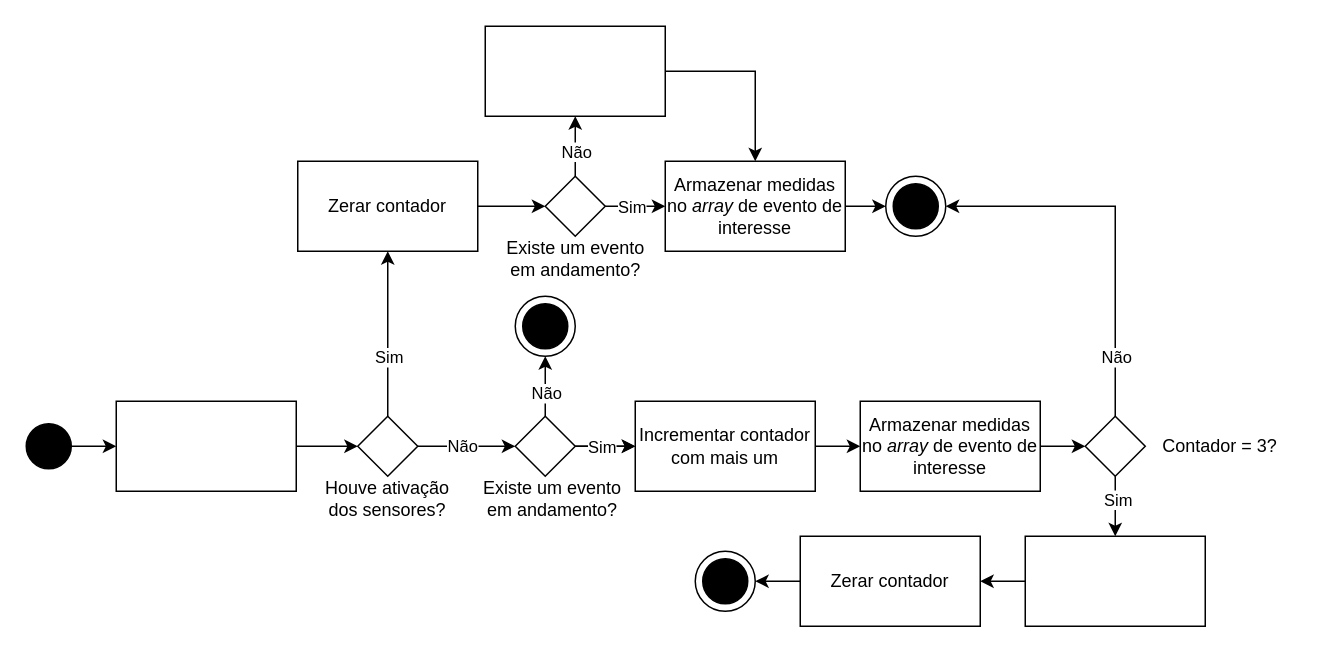
Image size: 1322x653. Some labels were removed from this diagram. The shapes that lost their labels are listed below. From the top down, each one's centre as x and y in pixels, then its label:
At point 574,70: "Inicializar array para armazenar medidas de um evento de interesse".
At point 205,445: "Coletar medidas dos sensores ultrassônicos".
At point 1114,580: "Definir array de evento como finalizado".
